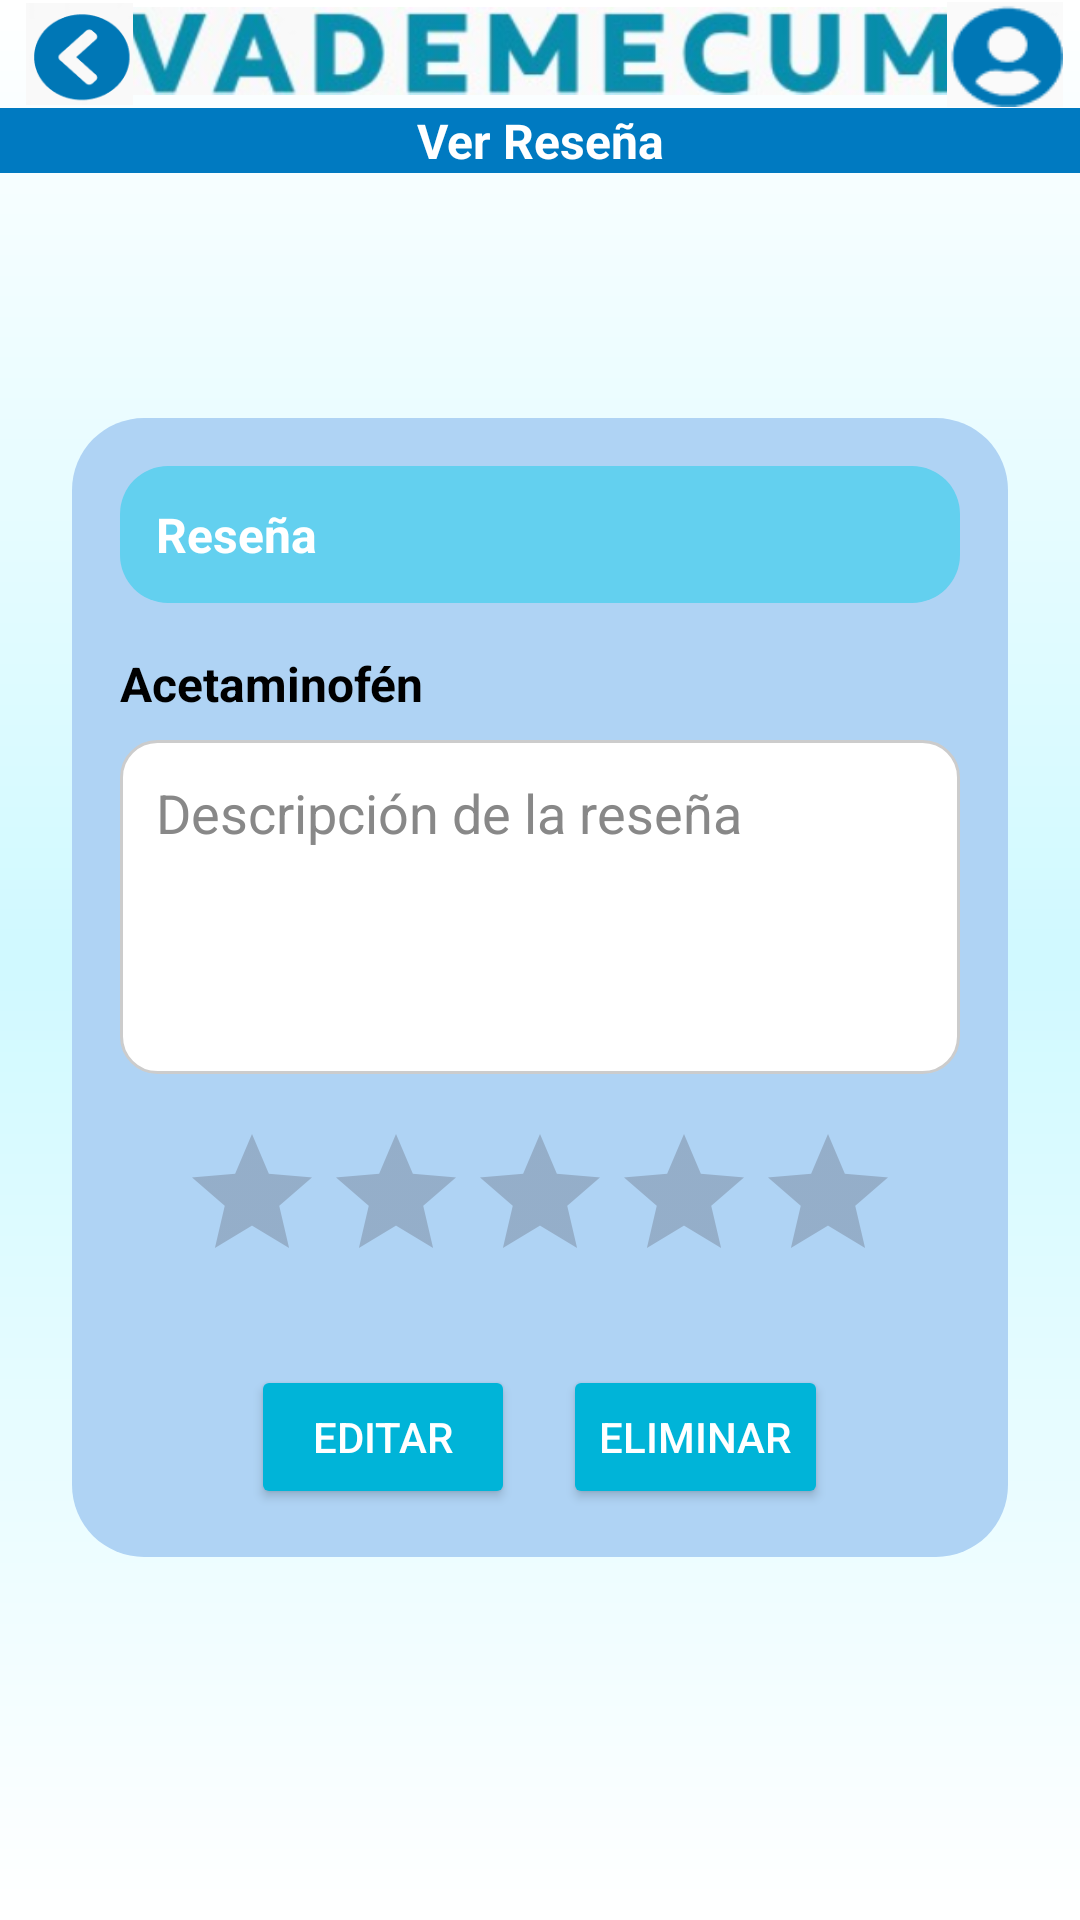

Screen size 1080*1920. Icon name, then its center in pixels as [x,y]:
imgatras: [82,57]
imgusuario: [1005,54]
